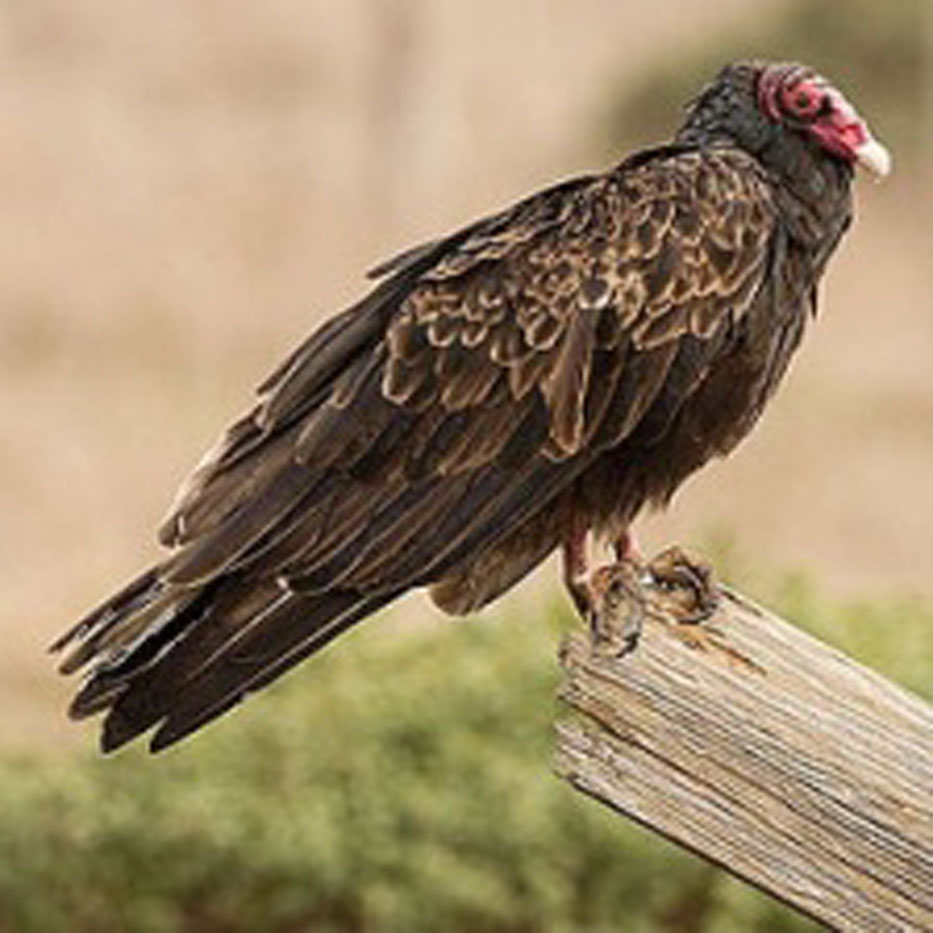Pengoyak Daging: (837, 136, 901, 193)
